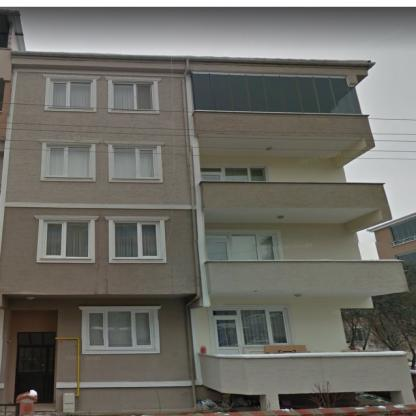door: (16, 347, 54, 403), (210, 316, 240, 353), (205, 240, 230, 260), (201, 174, 222, 180)
window: (192, 73, 362, 114), (209, 305, 294, 353), (85, 310, 156, 350), (205, 231, 283, 260), (112, 219, 164, 258), (42, 220, 92, 258), (113, 144, 160, 179), (45, 144, 92, 177), (112, 80, 157, 110), (50, 78, 92, 108), (201, 165, 268, 180), (390, 218, 415, 245), (18, 333, 55, 345), (399, 251, 415, 264)
